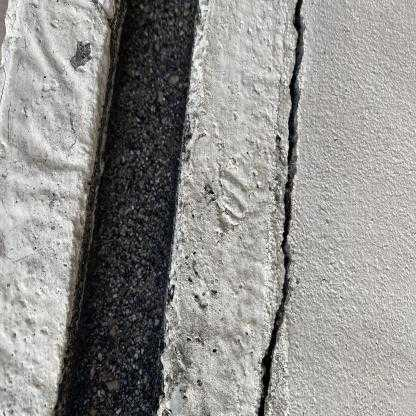crack: (259, 0, 303, 416)
